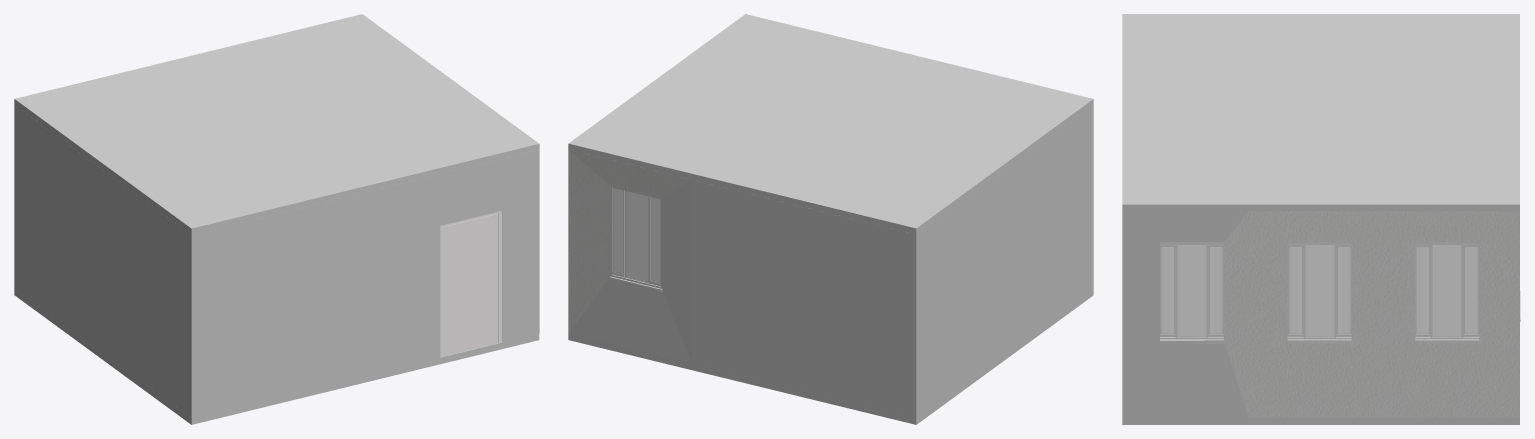
File: FloorPlan30_physics.fbx
3 views of the same model, side by side, from view 1: azimuth 30°, elevation 25°; view 2: azimuth 150°, elevation 25°; view 3: azimuth 270°, elevation 25° (orthographic). The views are drawn at different scales.
Visible parts, largest first — view 1: FP430:Walls, FP430:Ceiling, FP430:Door.002, FP430:Floor, FP430:DoorFrame.002; view 2: FP430:Walls, FP430:Ceiling, FP430:Floor, FP430:polySurface127, FP430:polySurface133; view 3: FP430:Ceiling, FP430:Walls, FP430:polySurface134, FP430:polySurface141, FP430:polySurface152, FP430:Floor, FP430:polySurface147, FP430:polySurface140, FP430:polySurface154.
Part boxes in pixels (x1,y1,x2,y2): FP430:Walls: (14,105,539,418); FP430:Ceiling: (14,14,539,234); FP430:Door.002: (443,214,497,356); FP430:Floor: (14,289,539,424); FP430:DoorFrame.002: (440,210,502,357); FP430:Walls: (568,105,1093,418); FP430:Ceiling: (568,14,1093,234); FP430:Floor: (568,289,1093,424); FP430:polySurface127: (613,188,660,282); FP430:polySurface133: (609,187,662,291); FP430:Ceiling: (1122,14,1519,211); FP430:Walls: (1122,211,1519,417); FP430:polySurface134: (1416,245,1477,336); FP430:polySurface141: (1289,245,1350,336); FP430:polySurface152: (1161,245,1222,336); FP430:Floor: (1122,417,1519,424); FP430:polySurface147: (1287,242,1353,343); FP430:polySurface140: (1415,242,1480,343); FP430:polySurface154: (1160,242,1225,343).
Size of the model in its own units: 583 by 315 by 515.
